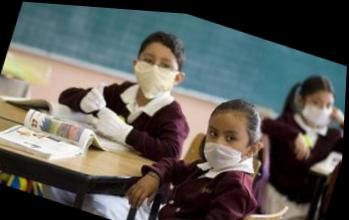OK: (131, 42, 183, 99), (301, 84, 339, 129)
WRONG: (200, 111, 254, 174)
